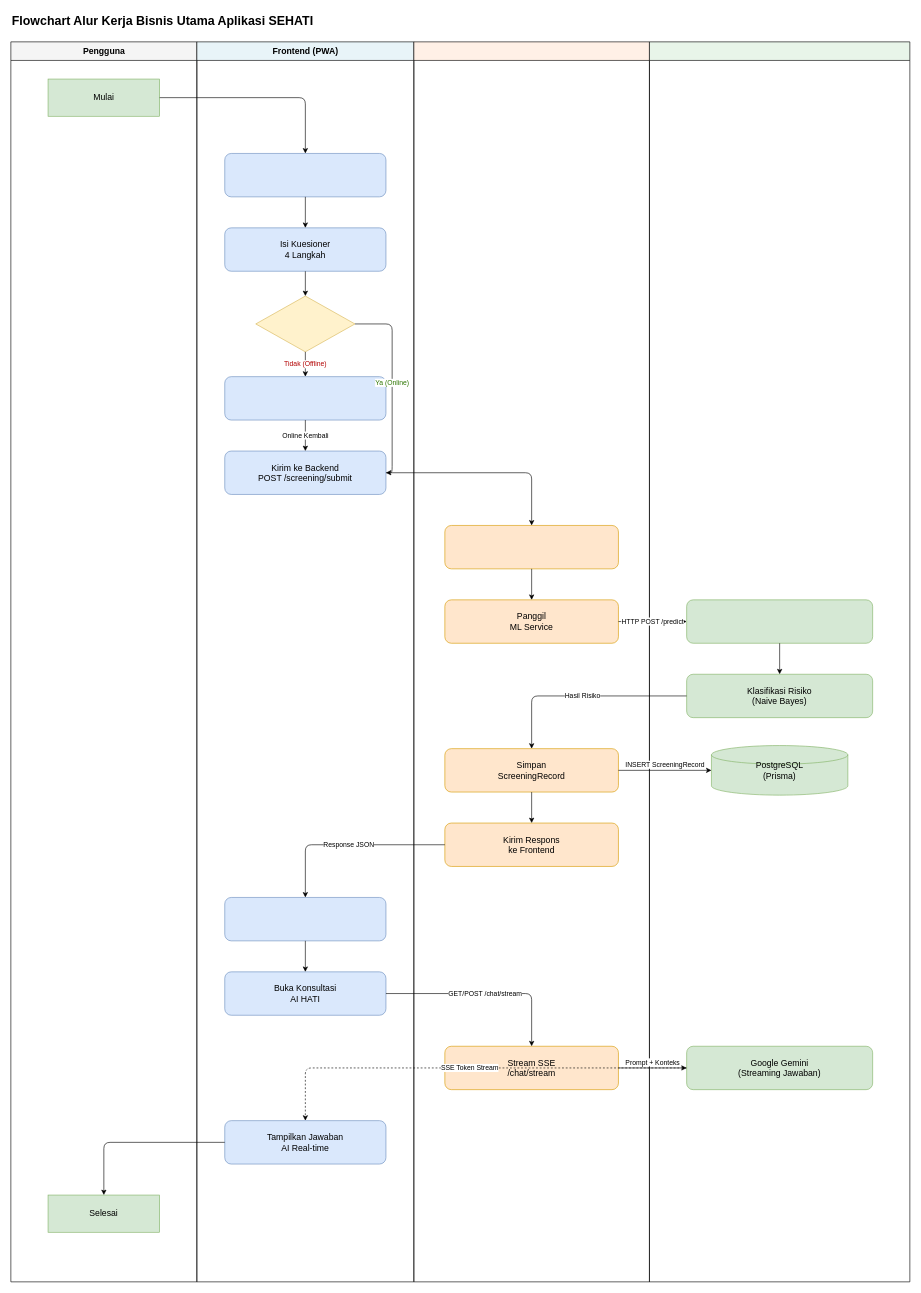
The diagram is 921 pixels wide and 1293 high, and some of its shapes have lost their labels. Each missing label, with the box of its shape:
Backend (API Gateway): (413, 41, 649, 1282)
Buka Aplikasi Init clientToken: (224, 153, 386, 197)
Hitung Z-Score WHO (LMS/Box-Cox): (686, 599, 873, 643)
Koneksi Online?: (255, 295, 355, 352)
ML Service, Database & Gemini AI: (649, 41, 910, 1282)
Simpan ke IndexedDB (Offline Queue): (224, 376, 386, 420)
Tampilkan 5 Widget Analitik: (224, 897, 386, 941)
Validasi (Zod) & Sesi Anonim: (444, 525, 618, 569)
